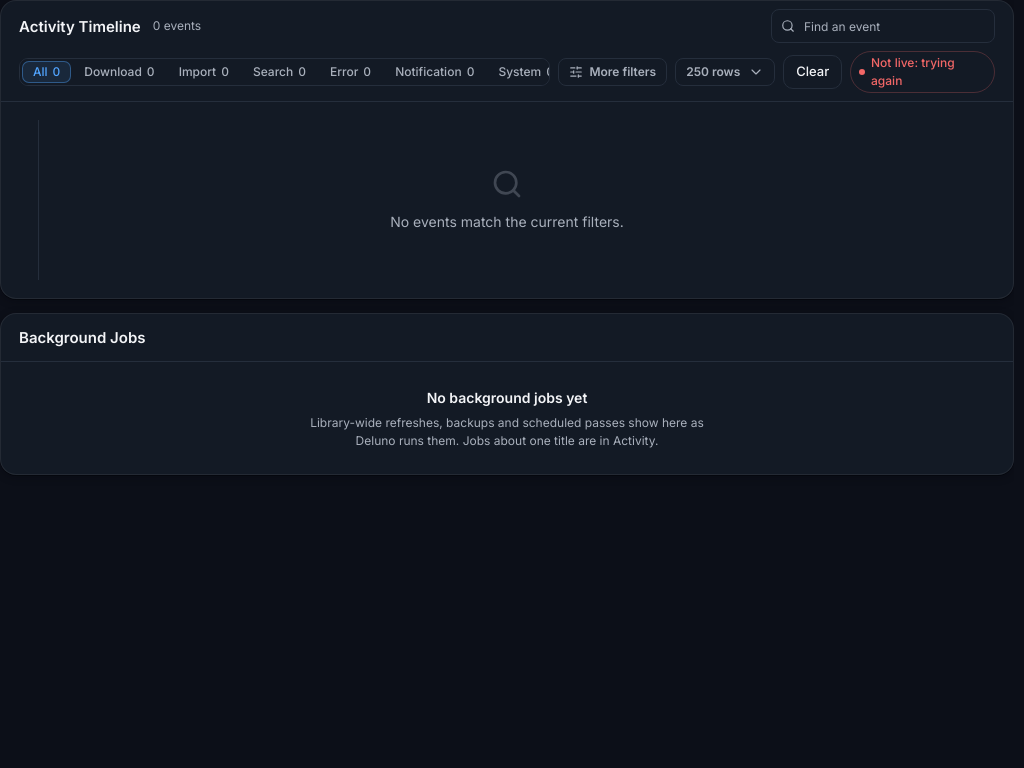
Test: Clearing the Activity timeline asks first › says what clearing really takes and does nothing until it is confirmed
The width and height of the screenshot is (1024, 768).
Click the button "Clear" at point(813, 72), box [783,55,842,89]
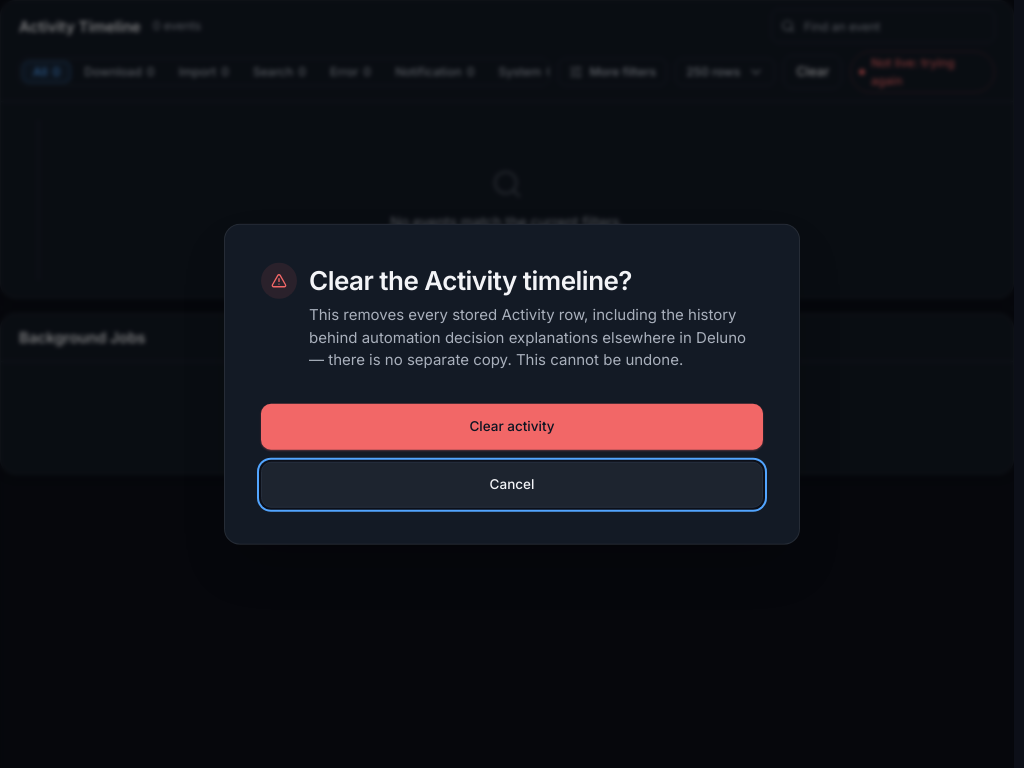
Expected: the heading "Clear the Activity timeline?" is shown, [309,265,632,296]
Expected: the text "This cannot be undone." is shown, [309,305,746,369]
